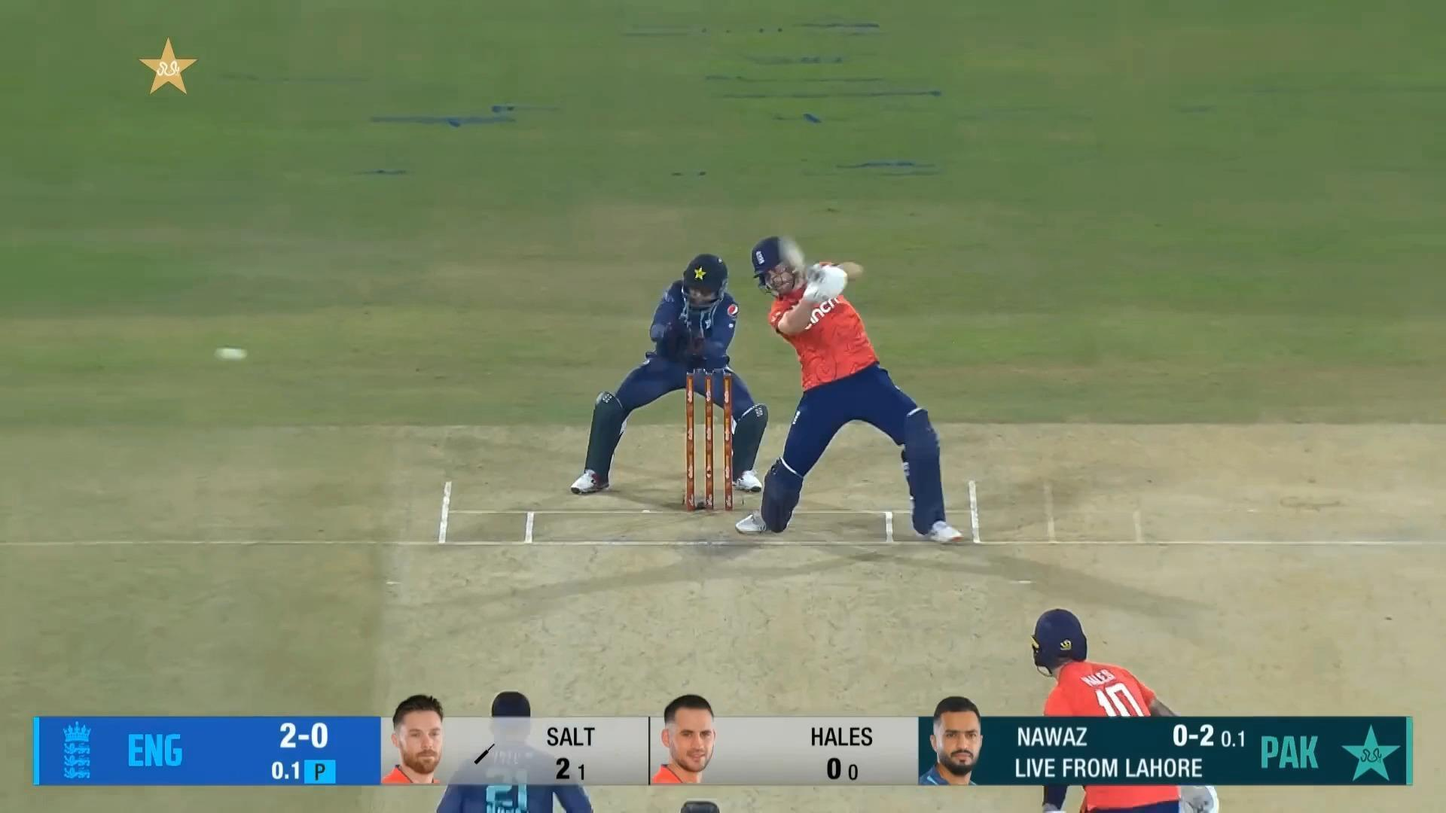BM 1: (734, 233, 965, 543)
BO: (436, 690, 594, 813)
